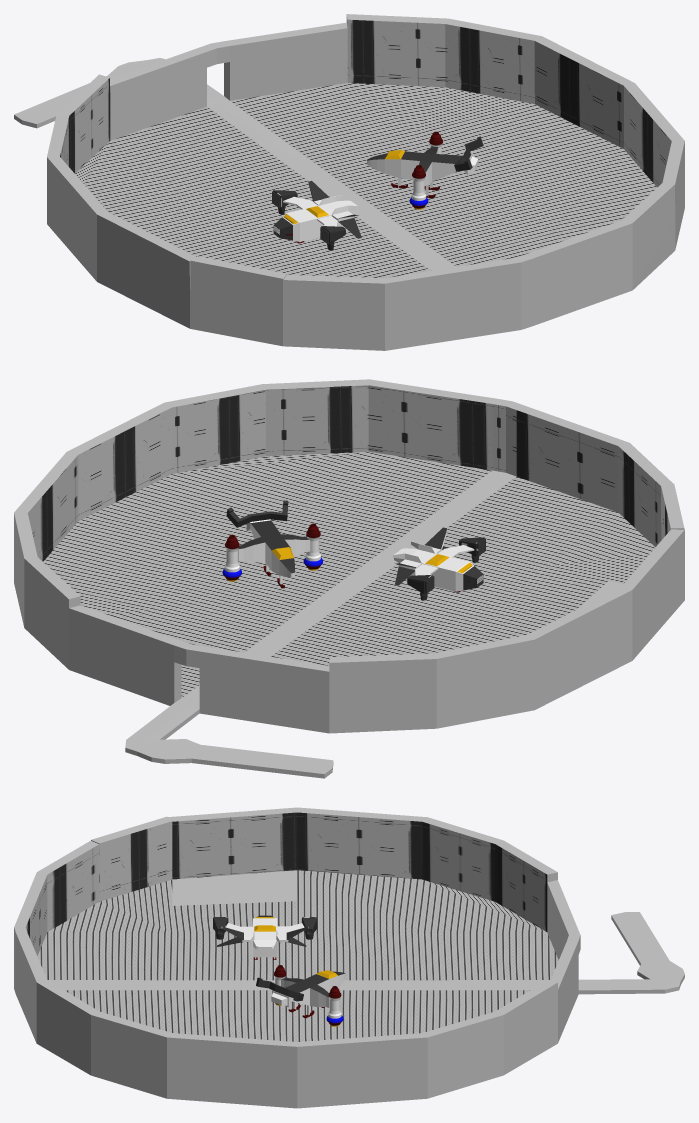
File: Hangar Circular con uv.fbx
3 renders of one model, top to bottom at view 1: azimuth 30°, elevation 25°; view 2: azimuth 150°, elevation 25°; view 3: azimuth 270°, elevation 25°, orthographic. The views are drawn at different scales.
Parts seen in each view (by area): view 1: Cube, Cube.006, Cube.007; view 2: Cube, Cube.007, Cube.006; view 3: Cube, Cube.007, Cube.006.
Boxes of the visible parts, x1=… form: Cube: x1=14, y1=14, x2=684, y2=350; Cube.006: x1=272, y1=180, x2=361, y2=250; Cube.007: x1=367, y1=131, x2=483, y2=209; Cube: x1=14, y1=379, x2=684, y2=778; Cube.007: x1=222, y1=500, x2=322, y2=588; Cube.006: x1=393, y1=527, x2=485, y2=600; Cube: x1=14, y1=807, x2=684, y2=1108; Cube.007: x1=256, y1=965, x2=345, y2=1026; Cube.006: x1=213, y1=915, x2=317, y2=959.
Bounding box in the file's own units: 17369 × 2106 × 20571.
